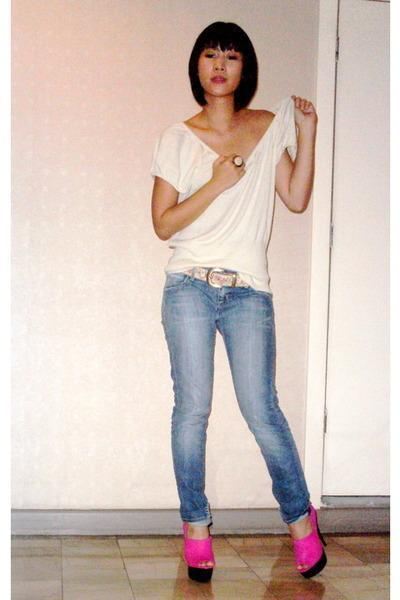pants: (161, 273, 311, 522)
shirt: (164, 117, 295, 290)
shoe: (185, 531, 326, 585)
